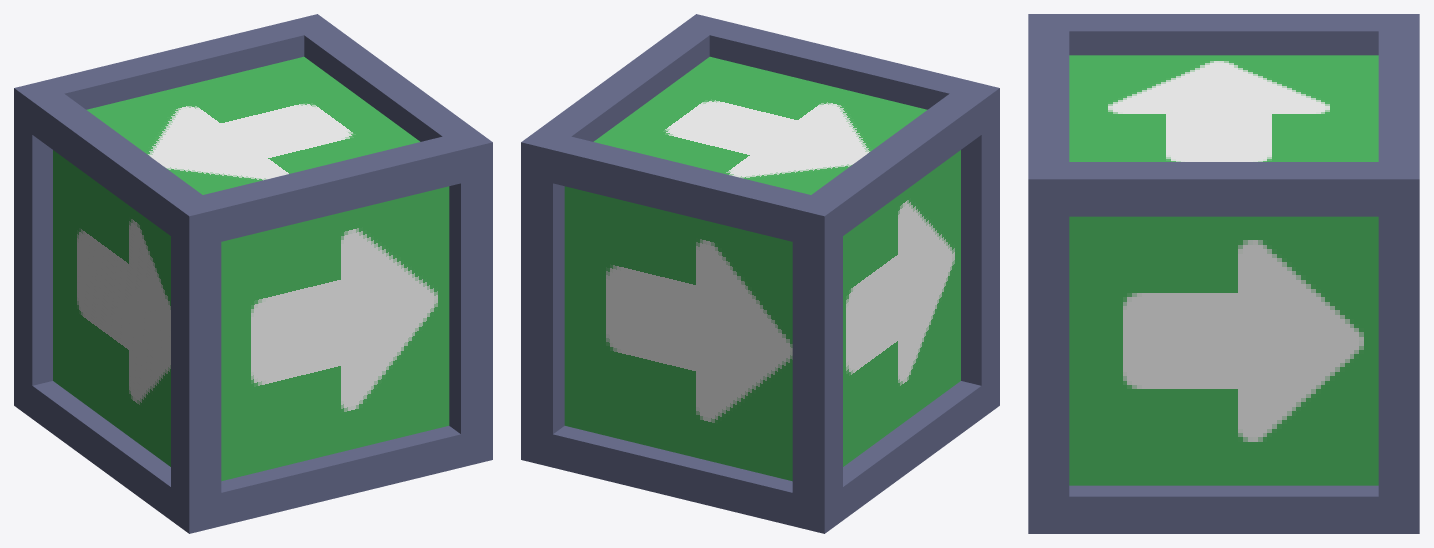
Rendered from CommandBox.fbx.
The picture shows the model from 3 angles, left to right: view 1: azimuth 30°, elevation 25°; view 2: azimuth 150°, elevation 25°; view 3: azimuth 270°, elevation 25°; orthographic projection. The views are drawn at different scales.
Visible parts, largest first — view 1: Cube.001; view 2: Cube.001; view 3: Cube.001.
Boxes of the visible parts, x1,y1,x2,y2 form: Cube.001: [14, 14, 492, 533]; Cube.001: [521, 14, 999, 533]; Cube.001: [1028, 14, 1419, 533].
Bounding box in the file's own units: 200 × 200 × 200.
2 materials, 1 textured.
